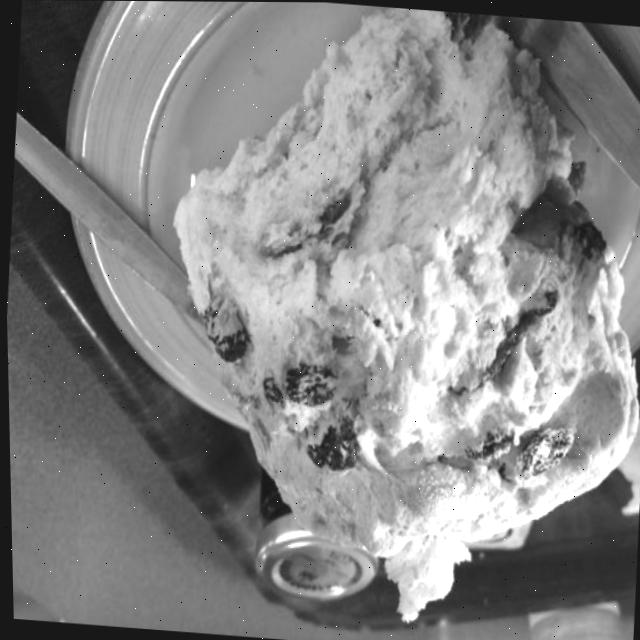面包点心: (169, 1, 640, 640)
